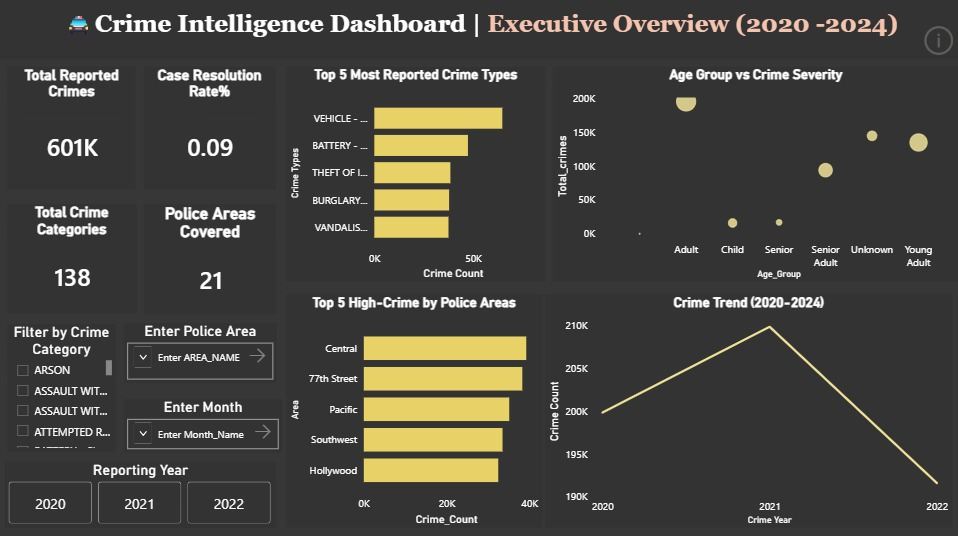

The page's visual inventory and layout, read from the dashboard file:
{"tool":"powerbi","page":{"name":"Page 1","canvas":[1280,720],"ordinal":0},"visuals":[{"type":"cardVisual","title":"Total Reported Crimes","fields":{"Data":["crime_cleaned.Total_crimes"]},"box":[10,91.4,171.4,164.3],"z":0},{"type":"cardVisual","title":"Police Areas Covered","fields":{"Data":["crime_cleaned.Total_Areas"]},"box":[191.4,274.3,177.1,147.1],"z":1000},{"type":"cardVisual","title":"Total Crime Categories","fields":{"Data":["crime_cleaned.Total_Crime_Types"]},"box":[10,275,171.7,146.7],"z":2000},{"type":"lineChart","title":"Crime Trend (2020-2022)","fields":{"Category":["crime_cleaned.Crime_Year","crime_cleaned.Month_Name","crime_cleaned.Quarter_No","crime_cleaned.Crime_Hour"],"Y":["CountNonNull(crime_cleaned.DR_NO)"]},"box":[727.1,395.7,542.9,311.4],"z":3000},{"type":"barChart","title":"Top 5 Most Reported Crime Types","fields":{"Category":["crime_cleaned.Crm_Cd_Desc"],"Y":["CountNonNull(crime_cleaned.DR_NO)"]},"box":[381.4,91.4,345.7,287.1],"z":4000},{"type":"cardVisual","title":"Case Resolution Rate%","fields":{"Data":["crime_cleaned.Solved_Cases%"]},"box":[191.4,91.4,175.7,164.3],"z":5000},{"type":"barChart","title":"Top 5 High-Crime by Police Areas","fields":{"Category":["crime_cleaned.AREA_NAME"],"Y":["Count(crime_cleaned.DR_NO)"]},"box":[381.4,395.7,341.4,311.4],"z":6000},{"type":"scatterChart","title":"Age Group vs Crime Severity","fields":{"Size":["crime_cleaned.Weapon_Crimes"],"X":["crime_cleaned.Age_Group"],"Y":["crime_cleaned.Total_crimes"]},"box":[737.1,91.4,542.9,287.1],"z":7000},{"type":"advancedSlicerVisual","title":"Reporting Year","fields":{"Values":["crime_cleaned.Crime_Year"]},"box":[7.1,618.6,361.4,88.6],"z":8000},{"type":"textSlicer","title":"Enter Police Area","fields":{"Values":["crime_cleaned.AREA_NAME"]},"box":[164.3,432.9,204.3,80],"z":9000},{"type":"slicer","title":"Filter by Crime Category","fields":{"Values":["crime_cleaned.Crm_Cd_Desc"]},"box":[10,435.7,144.3,170],"z":10000},{"type":"textSlicer","title":"Enter Month","fields":{"Values":["crime_cleaned.Month_Name"]},"box":[164.3,534.3,211.4,71.4],"z":11000},{"type":"textbox","box":[0,0,1280.3,82.3],"z":12000},{"type":"actionButton","box":[1226.7,31.7,53.3,50],"z":13000}]}

Visuals, with their boxes in screenshot pixels (x1, y1, x2, y2), scaled from the page's 1280x720 canvas onto the 958x536 screenshot:
"Total Reported Crimes" cardVisual: (left=7, top=68, right=136, bottom=190)
"Police Areas Covered" cardVisual: (left=143, top=204, right=276, bottom=314)
"Total Crime Categories" cardVisual: (left=7, top=205, right=136, bottom=314)
"Crime Trend (2020-2022)" lineChart: (left=544, top=295, right=951, bottom=526)
"Top 5 Most Reported Crime Types" barChart: (left=285, top=68, right=544, bottom=282)
"Case Resolution Rate%" cardVisual: (left=143, top=68, right=275, bottom=190)
"Top 5 High-Crime by Police Areas" barChart: (left=285, top=295, right=541, bottom=526)
"Age Group vs Crime Severity" scatterChart: (left=552, top=68, right=957, bottom=282)
"Reporting Year" advancedSlicerVisual: (left=5, top=461, right=276, bottom=526)
"Enter Police Area" textSlicer: (left=123, top=322, right=276, bottom=382)
"Filter by Crime Category" slicer: (left=7, top=324, right=115, bottom=451)
"Enter Month" textSlicer: (left=123, top=398, right=281, bottom=451)
textbox: (left=0, top=0, right=957, bottom=61)
actionButton: (left=918, top=24, right=957, bottom=61)
